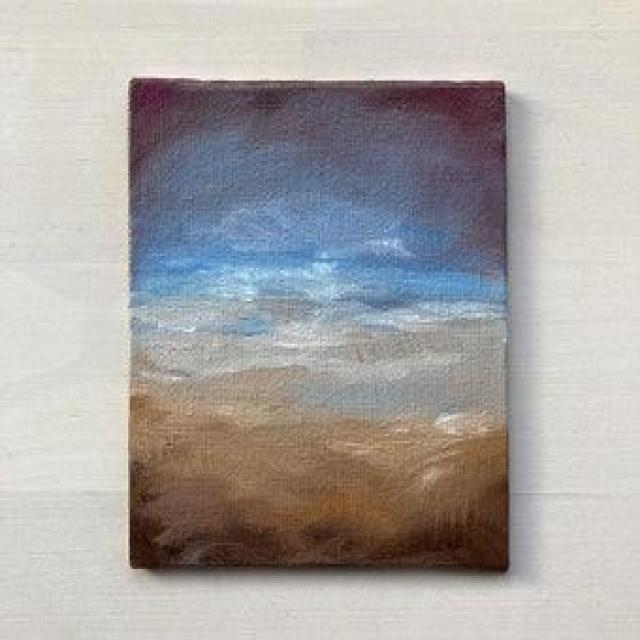painting: (124, 79, 506, 570)
